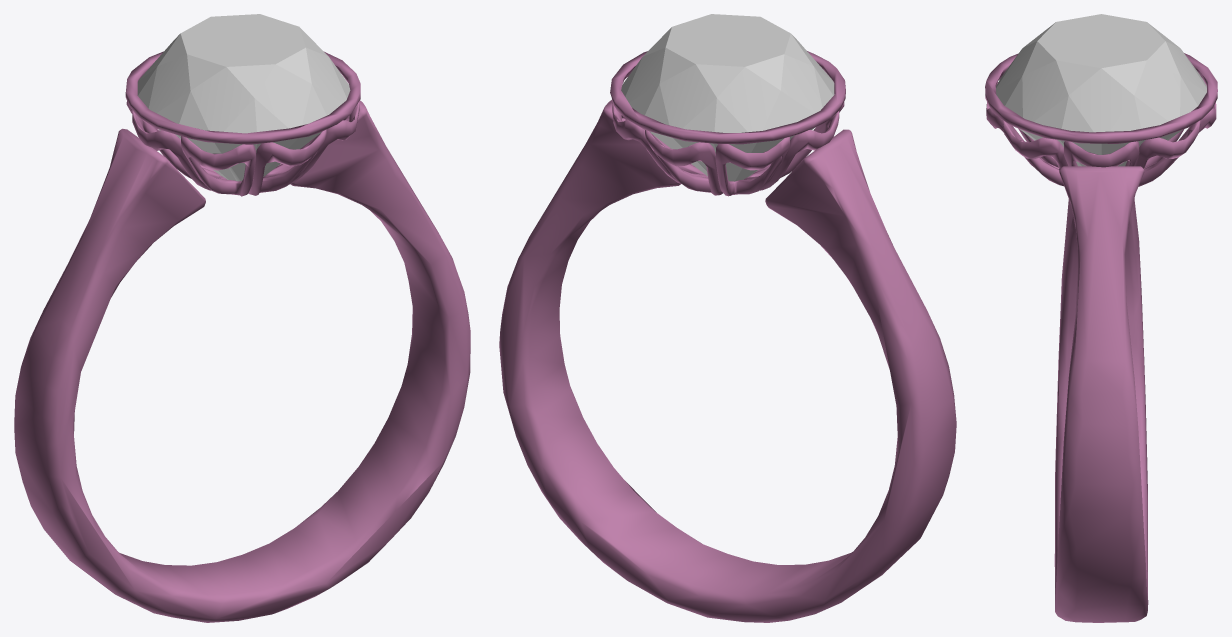
Rendered from ring_pink.obj.
3 views of the same model, side by side, from view 1: azimuth 30°, elevation 25°; view 2: azimuth 150°, elevation 25°; view 3: azimuth 270°, elevation 25° (orthographic).
Visible parts, largest first — view 1: ring_pink_TheRing; view 2: ring_pink_TheRing; view 3: ring_pink_TheRing.
Boxes of the visible parts, <box> form: ring_pink_TheRing: <box>14,14,470,622</box>; ring_pink_TheRing: <box>499,14,956,622</box>; ring_pink_TheRing: <box>985,14,1217,622</box>.
Size of the model in its own units: 0.1805 by 0.2278 by 0.086.
